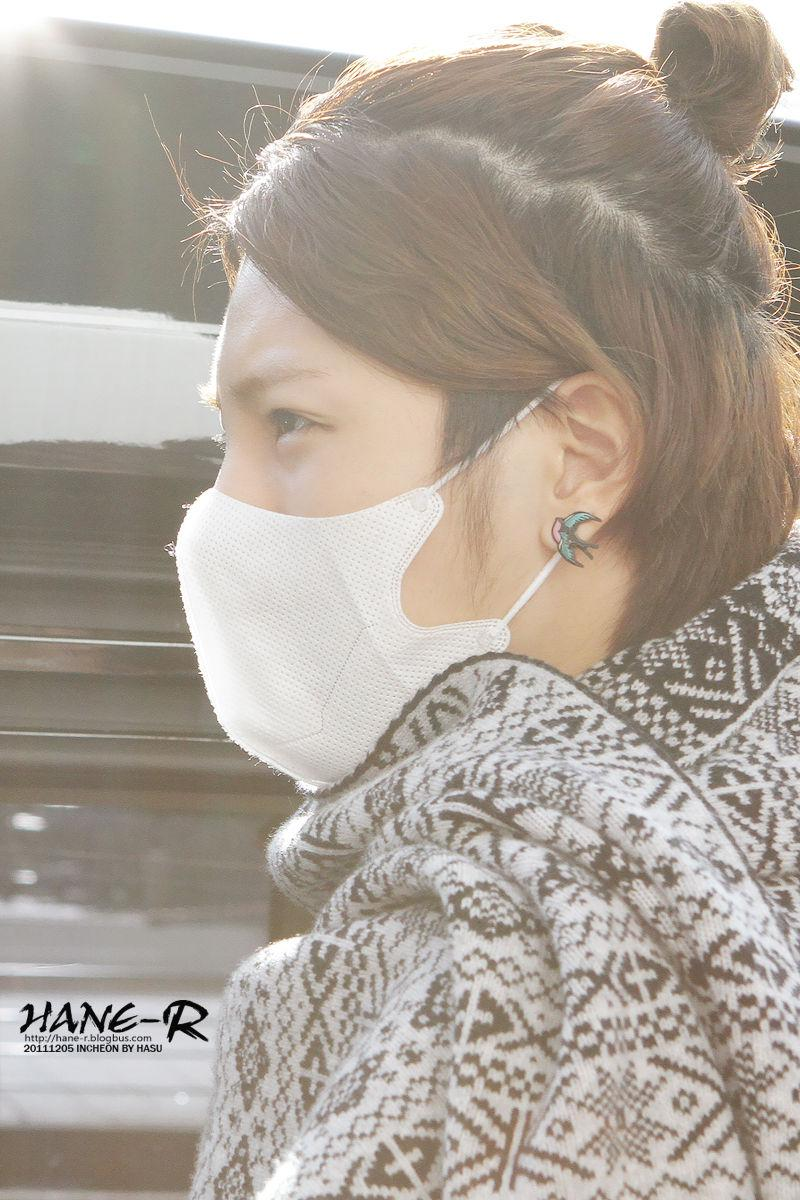OK: (178, 357, 528, 754)
